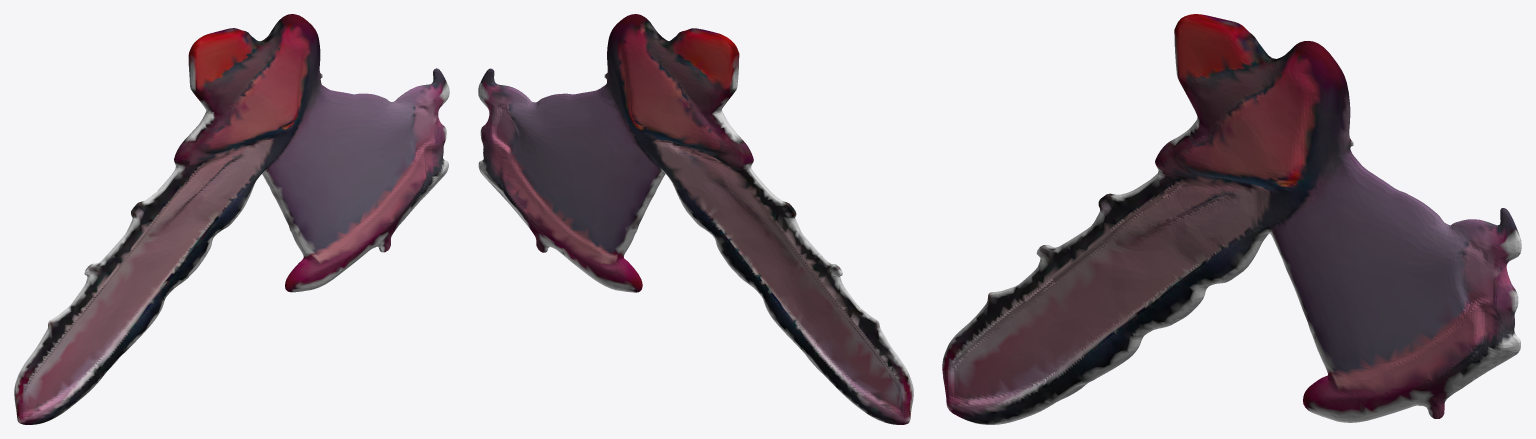
The model's file is bloodreaver.glb.
3 renders of one model, left to right at view 1: azimuth 30°, elevation 25°; view 2: azimuth 150°, elevation 25°; view 3: azimuth 330°, elevation 25°, orthographic. The views are drawn at different scales.
Visible parts, largest first — view 1: geometry_0; view 2: geometry_0; view 3: geometry_0.
Boxes of the visible parts, box(x1,y1,x2,y2) form: geometry_0: box(14, 14, 449, 424); geometry_0: box(478, 14, 913, 424); geometry_0: box(942, 14, 1521, 424).
Bounding box in the file's own units: 0.9375 × 0.7167 × 0.0788.
